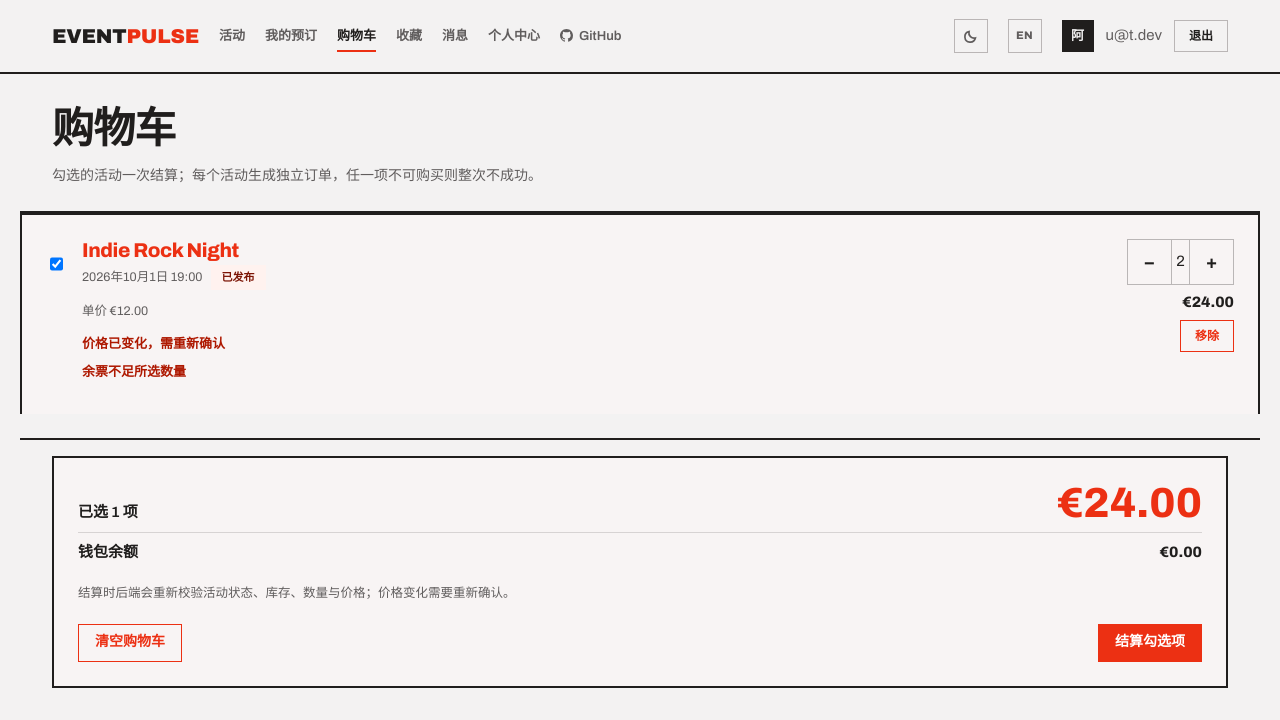
Test: CartPage › shows invalid reasons and asks for confirmation when prices changed
Expected: the list item "价格已变化，需重新确认" is shown, [82, 336, 225, 350]
Expected: the list item "余票不足所选数量" is shown, [82, 365, 186, 379]
Step 1. Click the button "结算勾选项" → click(1150, 643), box [1098, 624, 1202, 662]
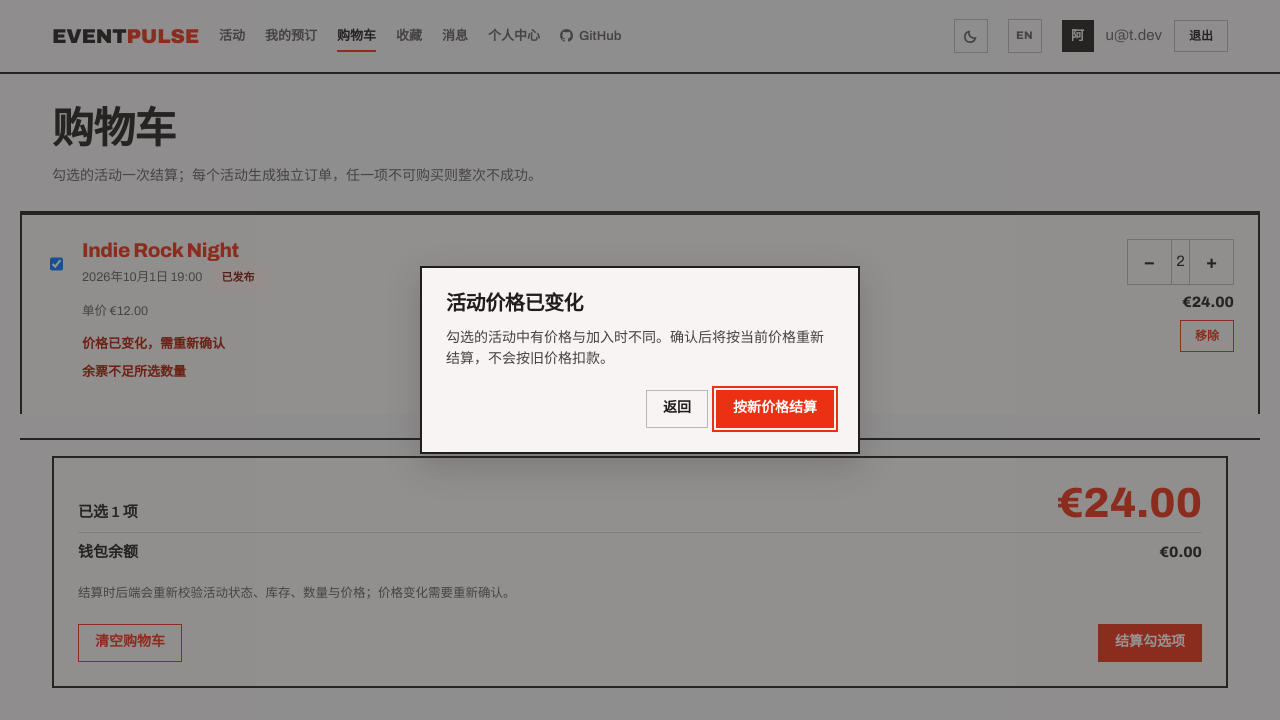
Result: the heading "活动价格已变化" is shown at [446, 292, 583, 314]
